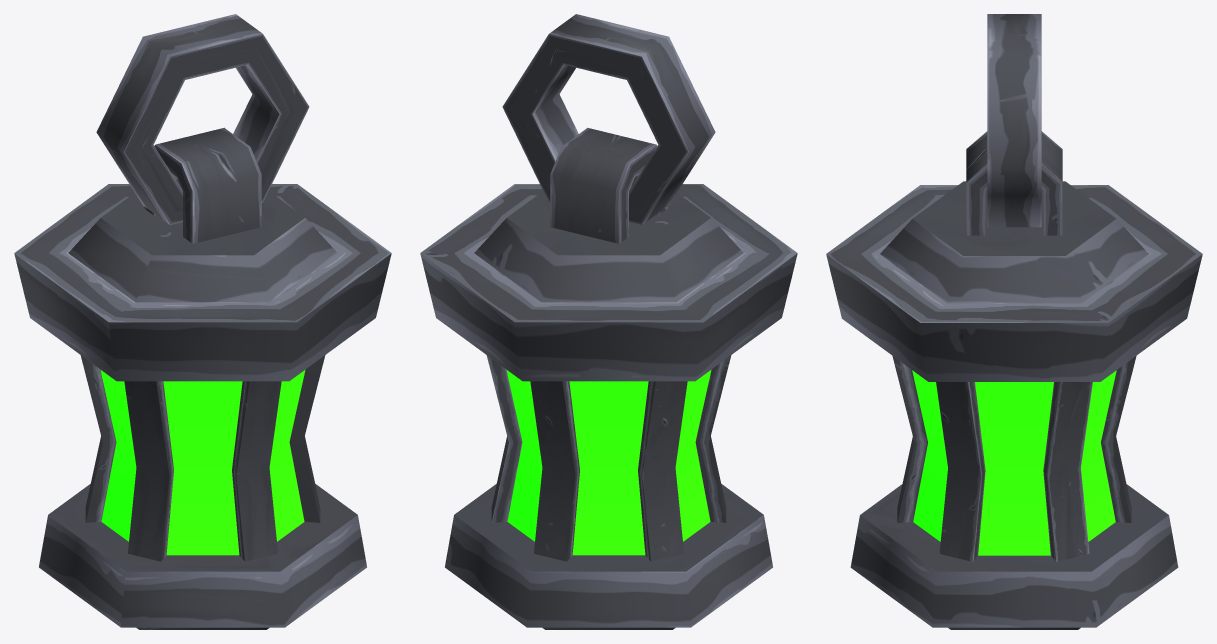
Rendered from SM_PROP_lantern_grave.fbx.
The picture shows the model from 3 angles, left to right: view 1: azimuth 30°, elevation 25°; view 2: azimuth 150°, elevation 25°; view 3: azimuth 270°, elevation 25°; orthographic projection.
Parts seen in each view (by area): view 1: SM_PROP_lantern_grave; view 2: SM_PROP_lantern_grave; view 3: SM_PROP_lantern_grave.
Boxes of the visible parts, x1=… form: SM_PROP_lantern_grave: x1=14, y1=14, x2=391, y2=629; SM_PROP_lantern_grave: x1=420, y1=14, x2=797, y2=629; SM_PROP_lantern_grave: x1=826, y1=14, x2=1202, y2=629.
Bounding box in the file's own units: 50.77 × 93.9 × 58.63.
